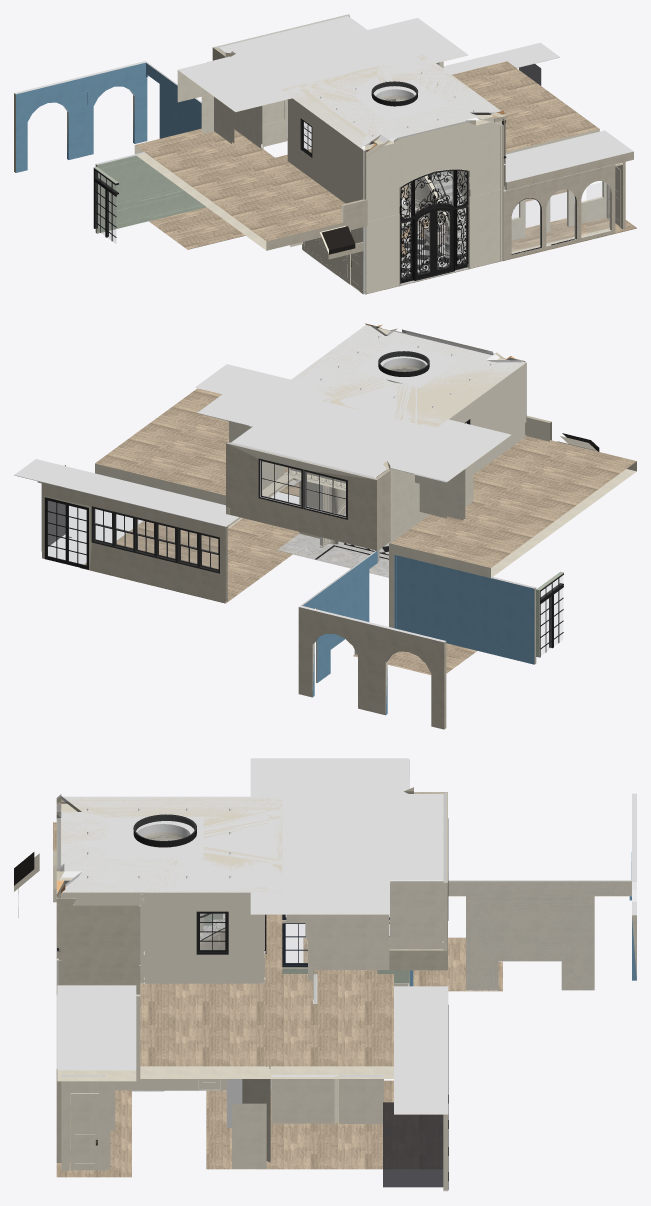
File: entry-1959bbb48a23.glb
3 views of the same model, one above another, from view 1: azimuth 30°, elevation 25°; view 2: azimuth 150°, elevation 25°; view 3: azimuth 270°, elevation 25° (orthographic). The views are drawn at different scales.
Parts seen in each view (by area): view 1: entry-look-2575515a05775d9e, entry-look-9d91b47435c6fb33, entry-9d91b47435c6fb33, entry-4edf3a9420c06709, entry-look-969b861f9850351e, entry-e8793759323e04f0, entry-9ca48b730e5de4b2, entry-look-b19b106fc304963c, entry-746250f96522f643, entry-look-dbd60ee5c3733ed6, entry-look-c9e78b9ec1bb39cd, entry-785988ccf932ddd5 (+34 smaller); view 2: entry-look-2575515a05775d9e, entry-look-9d91b47435c6fb33, entry-look-b19b106fc304963c, entry-9d91b47435c6fb33, entry-look-969b861f9850351e, entry-look-245f595ae2832e16, entry-look-3b0077416469e01b, entry-look-bfb9fa537cd11d1d, entry-e8793759323e04f0, entry-look-9a0e9ee9b2a451d7, entry-746250f96522f643, entry-look-3e6709f91b43c3bf (+19 smaller); view 3: entry-look-2575515a05775d9e, entry-look-9d91b47435c6fb33, entry-9d91b47435c6fb33, entry-look-3e6709f91b43c3bf, entry-look-3b0077416469e01b, entry-c51ecd664a3b22a3, entry-look-dbd60ee5c3733ed6, entry-e8793759323e04f0, entry-look-9a0e9ee9b2a451d7, entry-62353aa10fc57f23, entry-look-cbd4bf73d9724a66, entry-look-55ff1dfd7b659ec1 (+22 smaller).
Part boxes in pixels (x1,y1,x2,y2): entry-look-2575515a05775d9e: (134,61,599,250); entry-look-9d91b47435c6fb33: (178,16,468,112); entry-9d91b47435c6fb33: (282,54,500,149); entry-4edf3a9420c06709: (365,120,503,221); entry-look-969b861f9850351e: (14,61,147,172); entry-e8793759323e04f0: (281,55,499,149); entry-9ca48b730e5de4b2: (365,189,503,293); entry-look-b19b106fc304963c: (95,152,202,233); entry-746250f96522f643: (287,98,361,203); entry-look-dbd60ee5c3733ed6: (505,130,633,190); entry-look-c9e78b9ec1bb39cd: (503,164,615,260); entry-785988ccf932ddd5: (366,118,503,220); entry-look-2575515a05775d9e: (95,388,636,578); entry-look-9d91b47435c6fb33: (197,371,510,481); entry-look-b19b106fc304963c: (397,555,536,664); entry-9d91b47435c6fb33: (277,325,525,428); entry-look-969b861f9850351e: (298,605,446,729); entry-look-245f595ae2832e16: (226,442,377,551); entry-look-3b0077416469e01b: (80,518,476,674); entry-look-bfb9fa537cd11d1d: (42,482,227,602); entry-e8793759323e04f0: (279,325,525,427); entry-look-9a0e9ee9b2a451d7: (14,459,238,526); entry-746250f96522f643: (449,364,524,474); entry-look-3e6709f91b43c3bf: (302,551,377,682); entry-look-2575515a05775d9e: (53,822,393,1078); entry-look-9d91b47435c6fb33: (250,758,442,914); entry-9d91b47435c6fb33: (61,796,282,892); entry-look-3e6709f91b43c3bf: (448,880,631,989); entry-look-3b0077416469e01b: (206,937,502,1169); entry-c51ecd664a3b22a3: (145,892,264,983); entry-look-dbd60ee5c3733ed6: (57,985,136,1081); entry-e8793759323e04f0: (58,794,282,892); entry-look-9a0e9ee9b2a451d7: (394,986,448,1114); entry-62353aa10fc57f23: (71,892,140,996); entry-look-cbd4bf73d9724a66: (383,1102,443,1187); entry-look-55ff1dfd7b659ec1: (448,880,631,990).
Size of the model in its own units: 21.07 by 7.02 by 18.
Materials: 65 (12 with a texture image).
